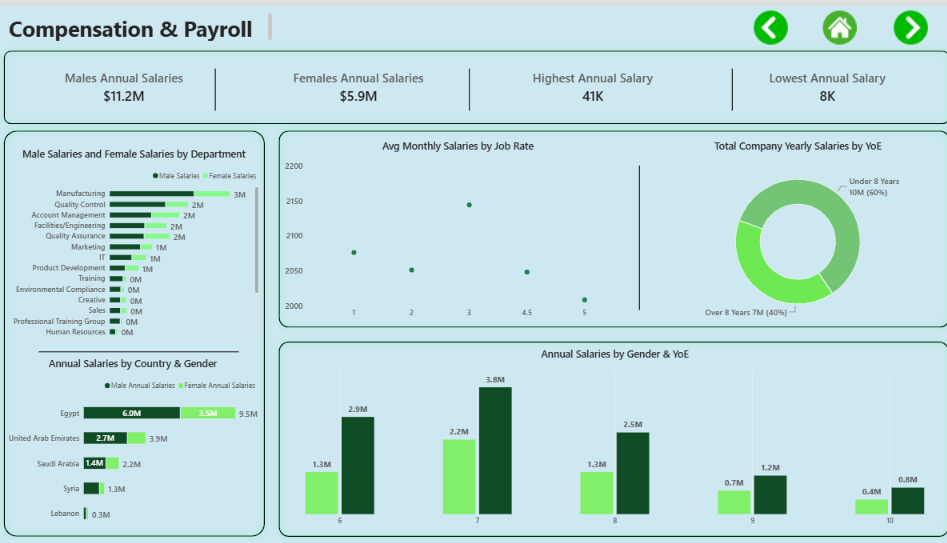

Layout of this report page (visuals, bound fields, positions):
{"tool":"powerbi","page":{"name":"Compensation & Payroll","canvas":[1920,1080],"ordinal":2},"visuals":[{"type":"group","id":"g1","title":"Group 1","box":[0,16,1920,1060.3],"z":0},{"type":"textbox","box":[24,16,526,54],"z":0,"group":"g1"},{"type":"cardVisual","fields":{"Data":["_measures.Total Male Annual Salaries","_measures.Total Female Annual Salaries","_measures.Highest Annual Salary","_measures.Lowest Annual Salary"]},"box":[22,98,1873.3,130],"z":1000},{"type":"shape","box":[0,76,1920,175],"z":2000,"group":"g1"},{"type":"clusteredColumnChart","title":"Annual Salaries by Gender & YoE","fields":{"Category":["fact_employee_performance.Tenure Years"],"Y":["_measures.Total Female Annual Salaries","_measures.Total Male Annual Salaries"]},"box":[576,682,1320,364],"z":2000},{"type":"image","box":[1794,10,68,68],"z":2001},{"type":"image","box":[1514,10,68,68],"z":2002},{"type":"image","box":[1652,10,68,68],"z":2003},{"type":"shape","box":[930,126,30,84],"z":2004},{"type":"shape","box":[422,126,30,84],"z":2005},{"type":"shape","box":[1456,126,30,84],"z":2006},{"type":"shape","box":[0,236,550,840],"z":10000,"group":"g1"},{"type":"barChart","title":"Male Salaries and Female Salaries by Department","fields":{"Category":["dim_department.department"],"Y":["_measures.Total Male Annual Salaries","_measures.Total Female Annual Salaries"]},"box":[24,282,500,384],"z":11000,"group":"g1"},{"type":"shape","box":[84.9,681,399.9,20.8],"z":12000,"group":"g1"},{"type":"barChart","title":"Annual Salaries by Country & Gender","fields":{"Category":["dim_location.department_country"],"Y":["_measures.Total Male Annual Salaries","_measures.Total Female Annual Salaries"]},"box":[22.6,701.8,499.9,347.1],"z":13000,"group":"g1"},{"type":"shape","box":[550,236,1370,422],"z":14000,"group":"g1"},{"type":"scatterChart","title":"Avg Monthly Salaries by Job Rate","fields":{"X":["fact_employee_performance.job_rate"],"Y":["Avg(fact_employee_performance.monthly_salary)"]},"box":[576,266,692,364],"z":15000,"group":"g1"},{"type":"shape","box":[1273.3,320,22.6,288.6],"z":16000,"group":"g1"},{"type":"donutChart","title":"Total Company Yearly Salaries by YoE","fields":{"Category":["fact_employee_performance.YearsOfExperience"],"Y":["_measures.Total Company Yearly Salaries"]},"box":[1306,266,592,370],"z":17000,"group":"g1"},{"type":"shape","box":[550,658,1368.3,418.3],"z":18000,"group":"g1"}]}

Visuals, with their boxes in screenshot pixels (x1, y1, x2, y2), scaled from the page's 1920x1080 canvas onto the 947x543 screenshot:
"Group 1" group: 0/8/946/541
textbox: 12/8/271/35
cardVisual - _measures.Total Male Annual Salaries x _measures.Total Female Annual Salaries: 11/49/935/115
shape: 0/38/946/126
"Annual Salaries by Gender & YoE" clusteredColumnChart: 284/343/935/526
image: 885/5/918/39
image: 747/5/780/39
image: 815/5/848/39
shape: 459/63/474/106
shape: 208/63/223/106
shape: 718/63/733/106
shape: 0/119/271/541
"Male Salaries and Female Salaries by Department" barChart: 12/142/258/335
shape: 42/342/239/353
"Annual Salaries by Country & Gender" barChart: 11/353/258/527
shape: 271/119/946/331
"Avg Monthly Salaries by Job Rate" scatterChart: 284/134/625/317
shape: 628/161/639/306
"Total Company Yearly Salaries by YoE" donutChart: 644/134/936/320
shape: 271/331/946/541
